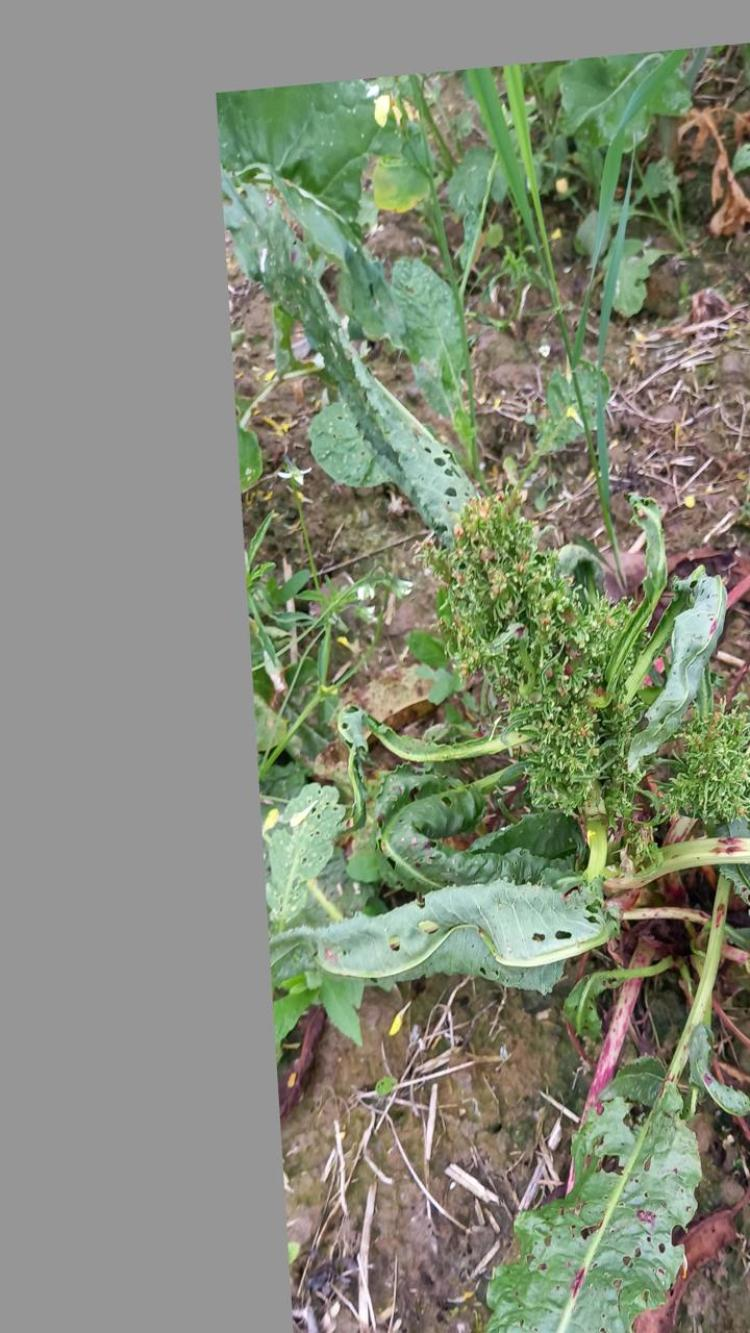zhavel: (400, 483, 750, 1162)
